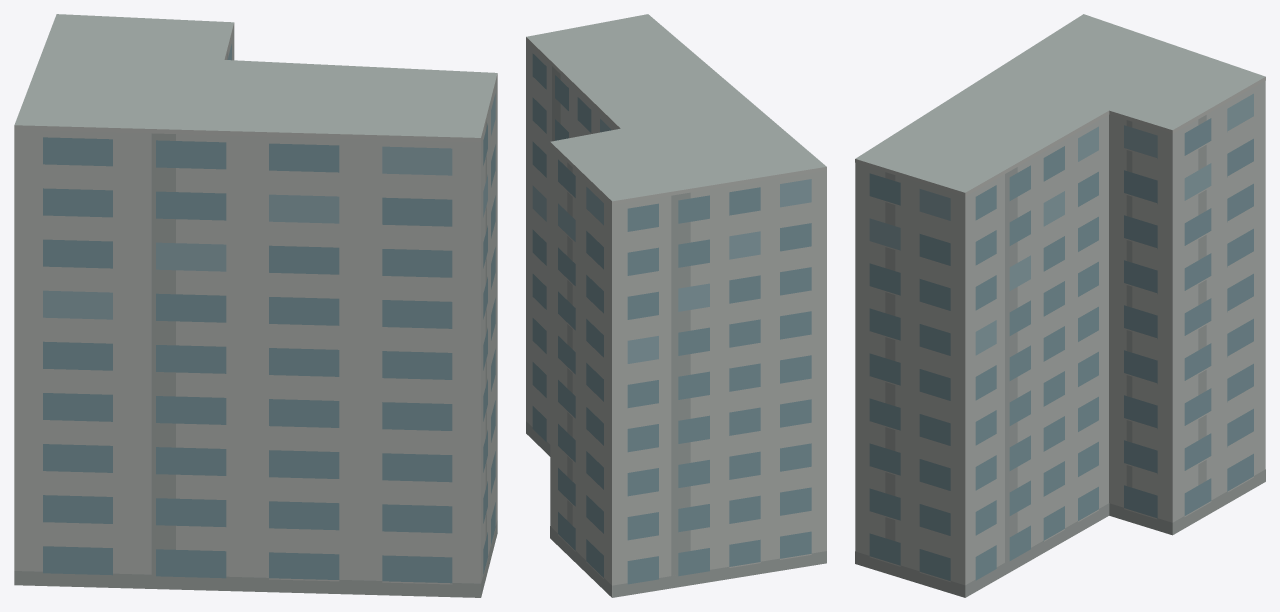
Rendered from residential-a8f0dbc7-7af1-4630-bb1b-ecd581cf8c8e.glb.
3 views of the same model, side by side, from view 1: azimuth 30°, elevation 25°; view 2: azimuth 150°, elevation 25°; view 3: azimuth 270°, elevation 25° (orthographic). The views are drawn at different scales.
Parts seen in each view (by area): view 1: residential-a8f0dbc7-7af1-4630-bb1b-ecd581cf8c8e.tmp; view 2: residential-a8f0dbc7-7af1-4630-bb1b-ecd581cf8c8e.tmp; view 3: residential-a8f0dbc7-7af1-4630-bb1b-ecd581cf8c8e.tmp.
Boxes of the visible parts, bbox=[...] form: residential-a8f0dbc7-7af1-4630-bb1b-ecd581cf8c8e.tmp: bbox=[14, 14, 497, 597]; residential-a8f0dbc7-7af1-4630-bb1b-ecd581cf8c8e.tmp: bbox=[526, 14, 826, 597]; residential-a8f0dbc7-7af1-4630-bb1b-ecd581cf8c8e.tmp: bbox=[855, 14, 1265, 597].
Size of the model in its own units: 23.68 by 25 by 22.98.
